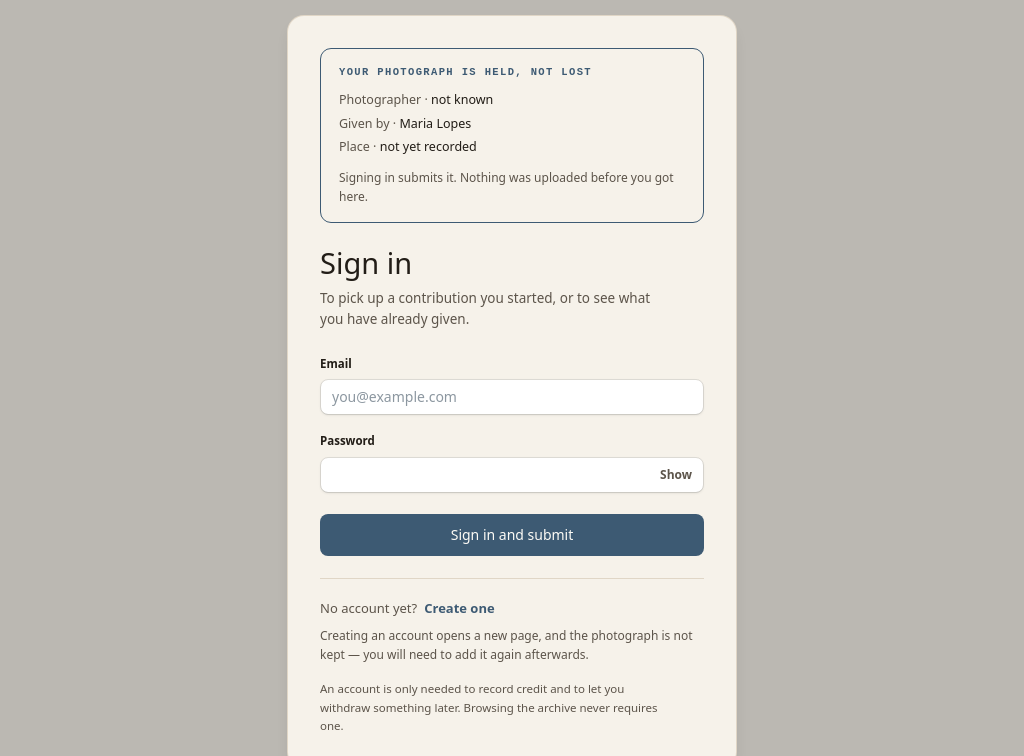
SignInDialog › shows the sign-in error and does not report success
Step 1. Type "maria@example.com" into the field labelled "Email" → (512, 397), box [320,379,704,415]
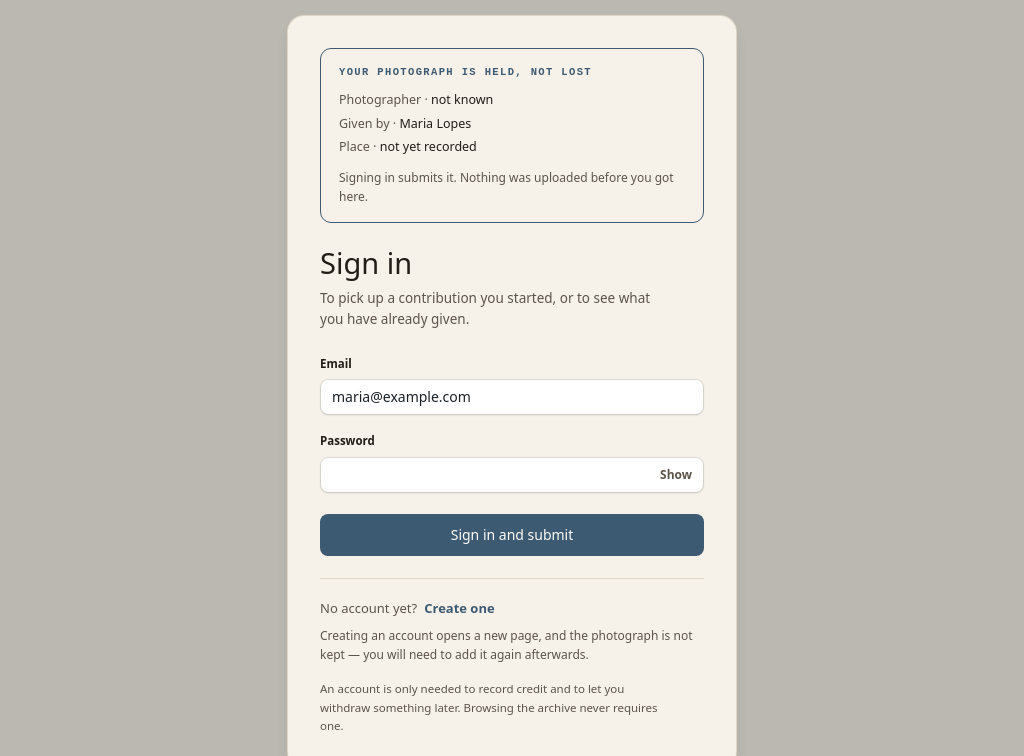
Step 2. Type "secret-pass" into the password field labelled "Password" → (512, 474), box [320,456,704,492]
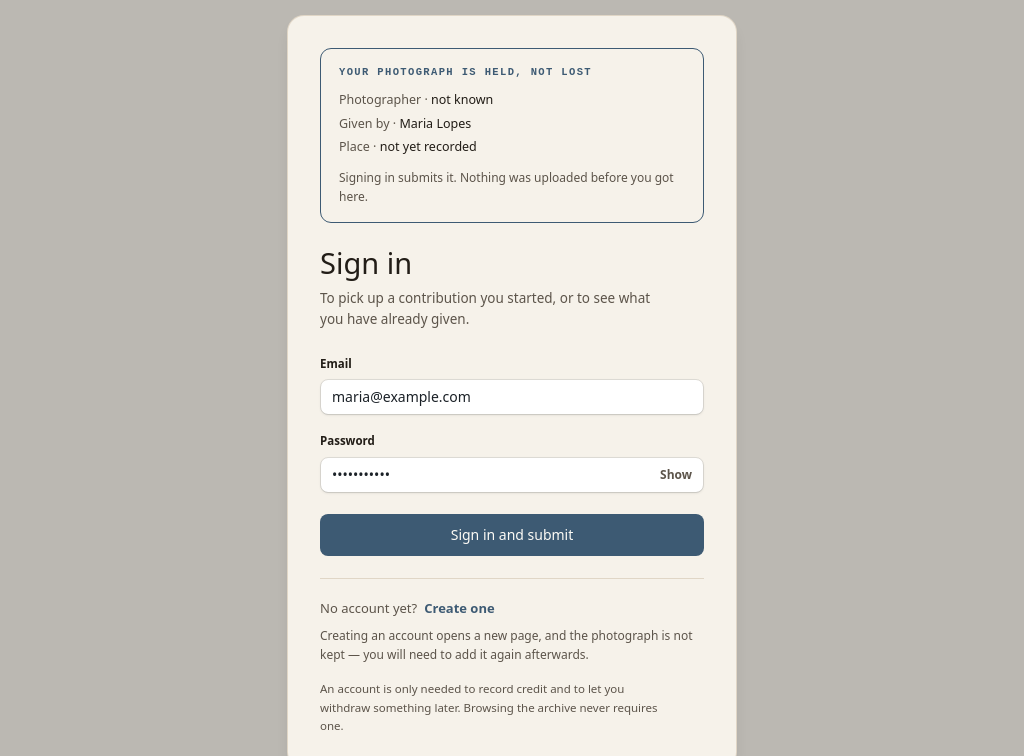
Step 3. Click the button "Sign in and submit" → (512, 534), box [320,514,704,556]
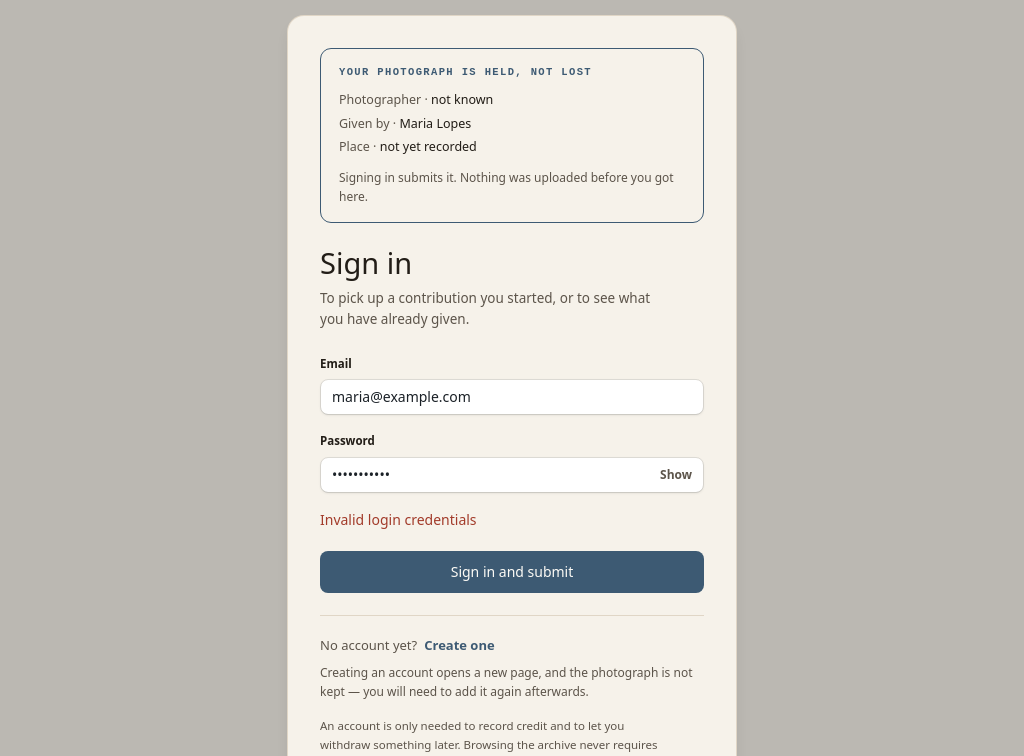
Expected: the text "Invalid login credentials" is shown, [320,510,477,528]
